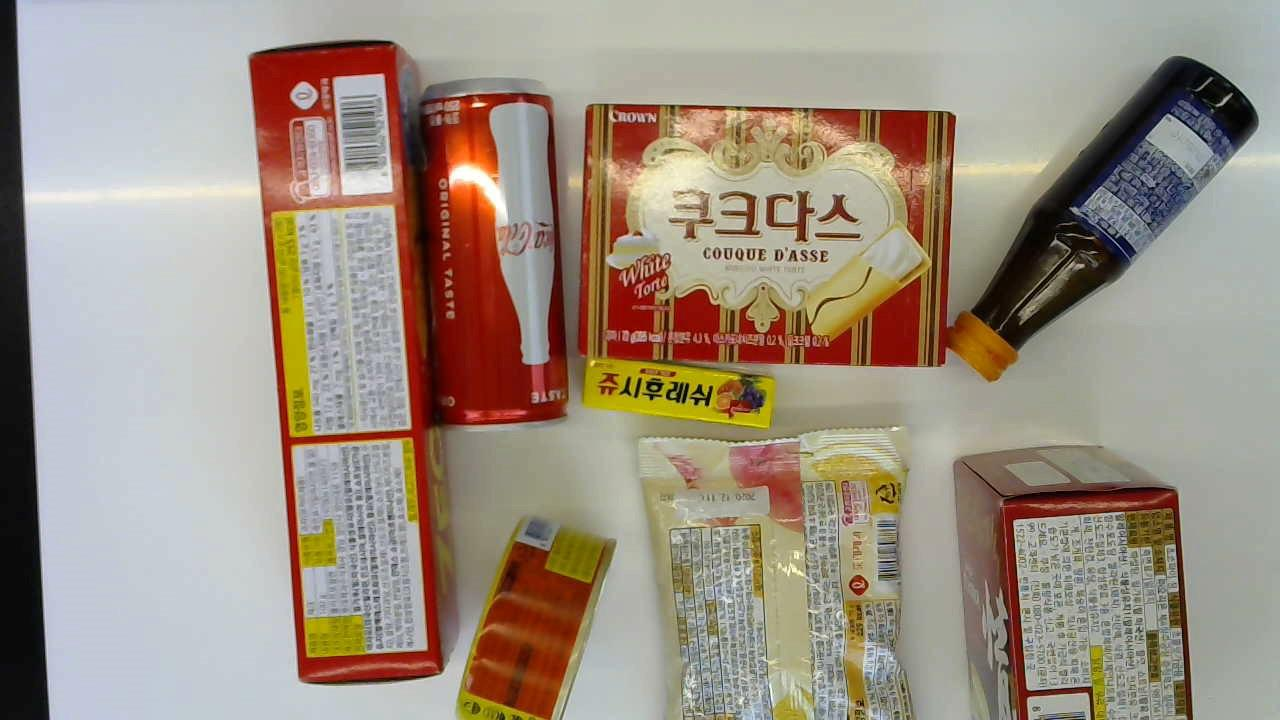chocopie: (952, 441, 1187, 720)
coke: (427, 72, 561, 426)
couque_white: (575, 103, 958, 367)
gumi_gumi: (636, 420, 913, 720)
juicyfresh: (574, 355, 778, 429)
tuna: (459, 515, 615, 720)
vita500: (944, 53, 1258, 383)
zec: (242, 37, 461, 680)
